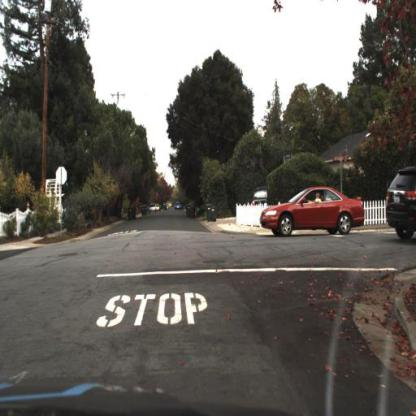car: (260, 185, 369, 239), (386, 164, 416, 243), (151, 206, 158, 215)
